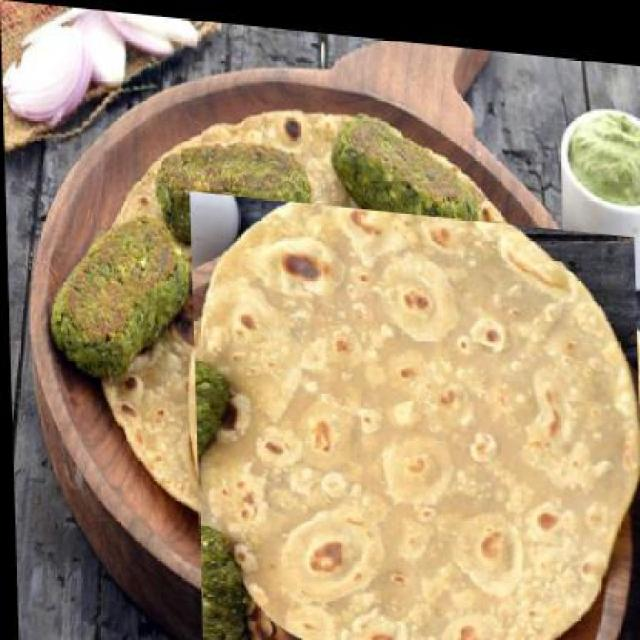chapati: (184, 190, 638, 638), (91, 85, 524, 549)
